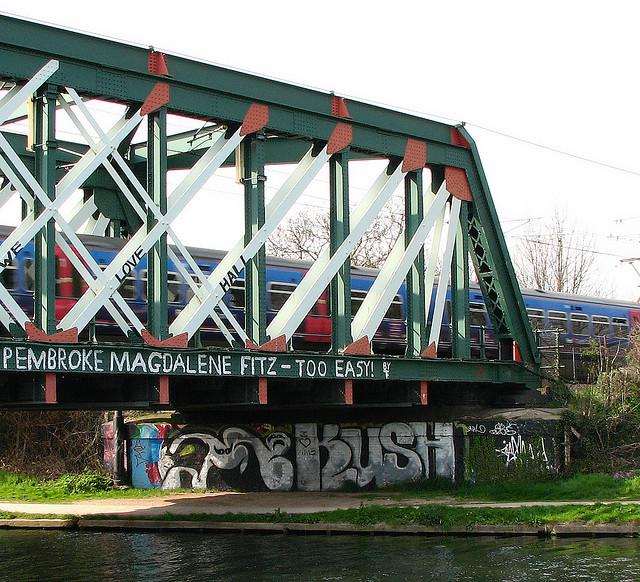Train: (2, 233, 639, 343)
